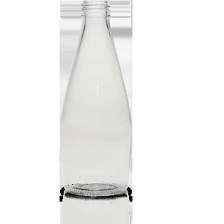bottle: (50, 0, 140, 197)
